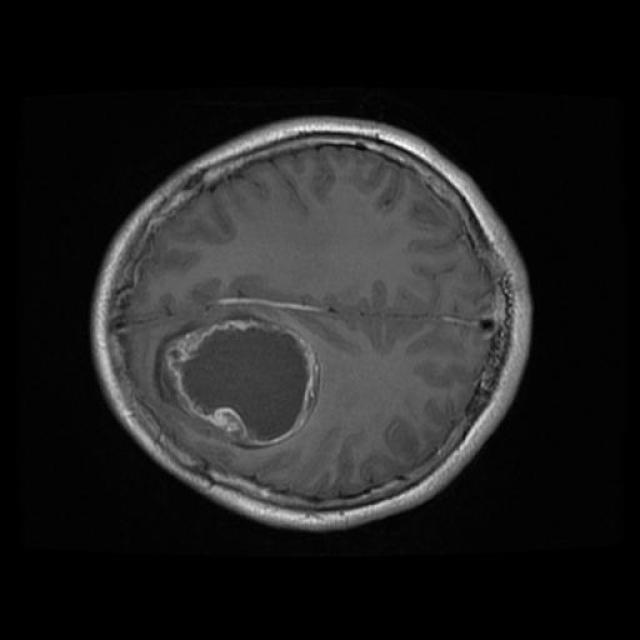Glioma: (158, 315, 318, 443)
